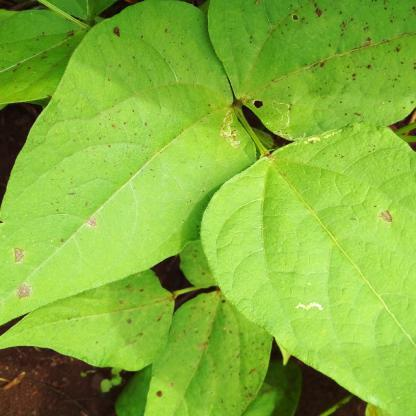Beans_Angular_LeafSpot: (4, 0, 253, 324), (200, 126, 416, 416), (211, 4, 416, 134)
